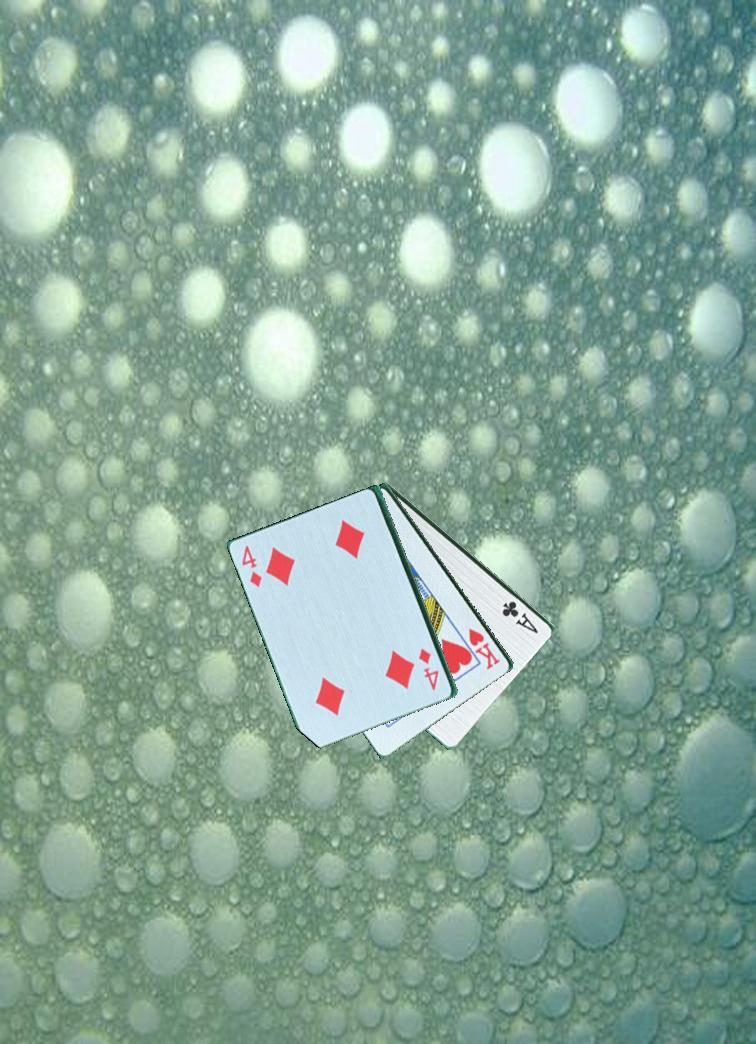4d: (238, 541, 268, 590), (416, 645, 442, 694)
ac: (499, 597, 542, 636)
kh: (464, 624, 504, 671)
